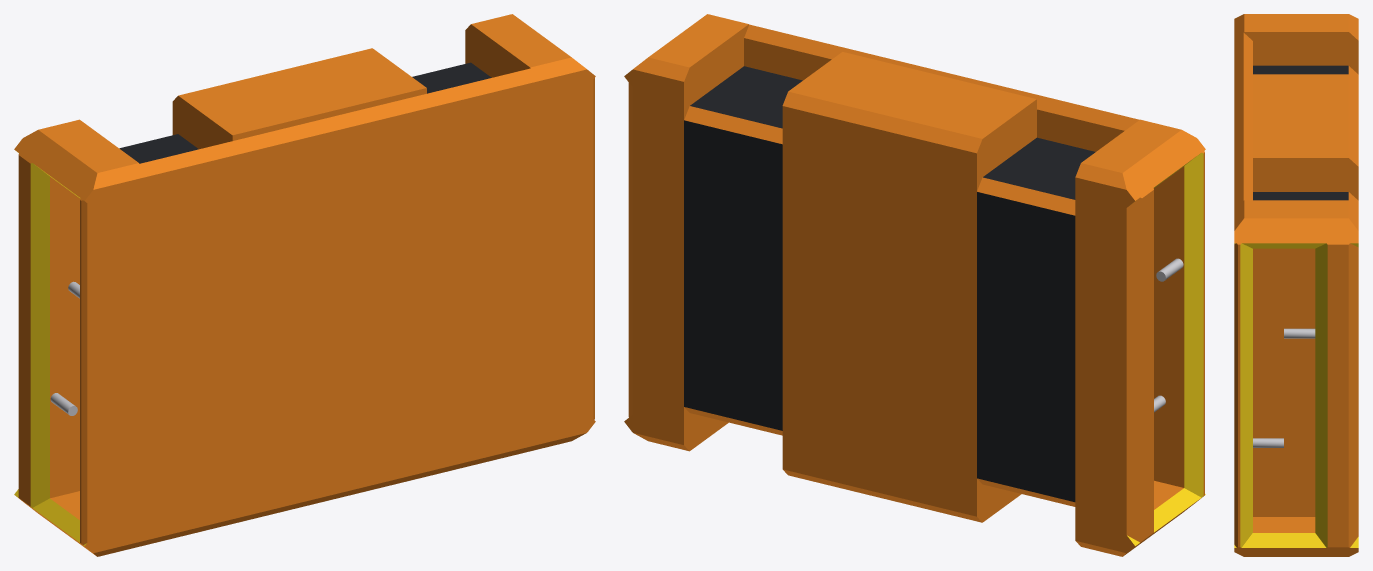
File: chassis_body.obj
3 views of the same model, side by side, from view 1: azimuth 30°, elevation 25°; view 2: azimuth 150°, elevation 25°; view 3: azimuth 270°, elevation 25° (orthographic). The views are drawn at different scales.
Parts seen in each view (by area): view 1: core, dock; view 2: core, dock; view 3: dock, core, pins.
Boxes of the visible parts, x1=… form: core: x1=119, y1=48, x2=535, y2=546; dock: x1=14, y1=14, x2=595, y2=556; core: x1=684, y1=24, x2=1139, y2=522; dock: x1=624, y1=14, x2=1205, y2=556; dock: x1=1234, y1=14, x2=1358, y2=556; core: x1=1234, y1=32, x2=1358, y2=208; pins: x1=1253, y1=328, x2=1315, y2=447.
Bounding box in the file's own units: 0.42 × 0.3 × 0.1.
